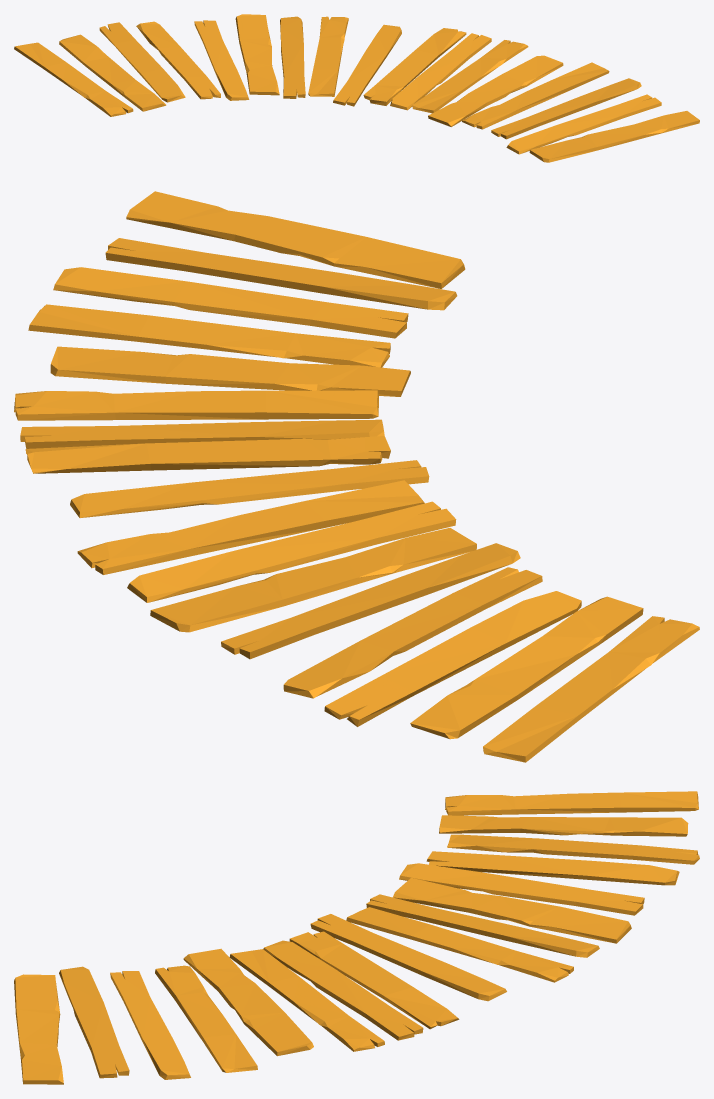
The model's file is SM_Path_Woodplanks_5m_Corner_Fantasy.fbx.
3 renders of one model, top to bottom at view 1: azimuth 30°, elevation 25°; view 2: azimuth 150°, elevation 25°; view 3: azimuth 270°, elevation 25°, orthographic. The views are drawn at different scales.
Visible parts, largest first — view 1: path-woodplanks-5m-corner-fantasy; view 2: path-woodplanks-5m-corner-fantasy; view 3: path-woodplanks-5m-corner-fantasy.
Part boxes in pixels (x1,y1,x2,y2): path-woodplanks-5m-corner-fantasy: (14, 14, 699, 162); path-woodplanks-5m-corner-fantasy: (14, 191, 699, 762); path-woodplanks-5m-corner-fantasy: (14, 791, 699, 1084).
Bounding box in the file's own units: 4.89 × 0.0857 × 4.88.
